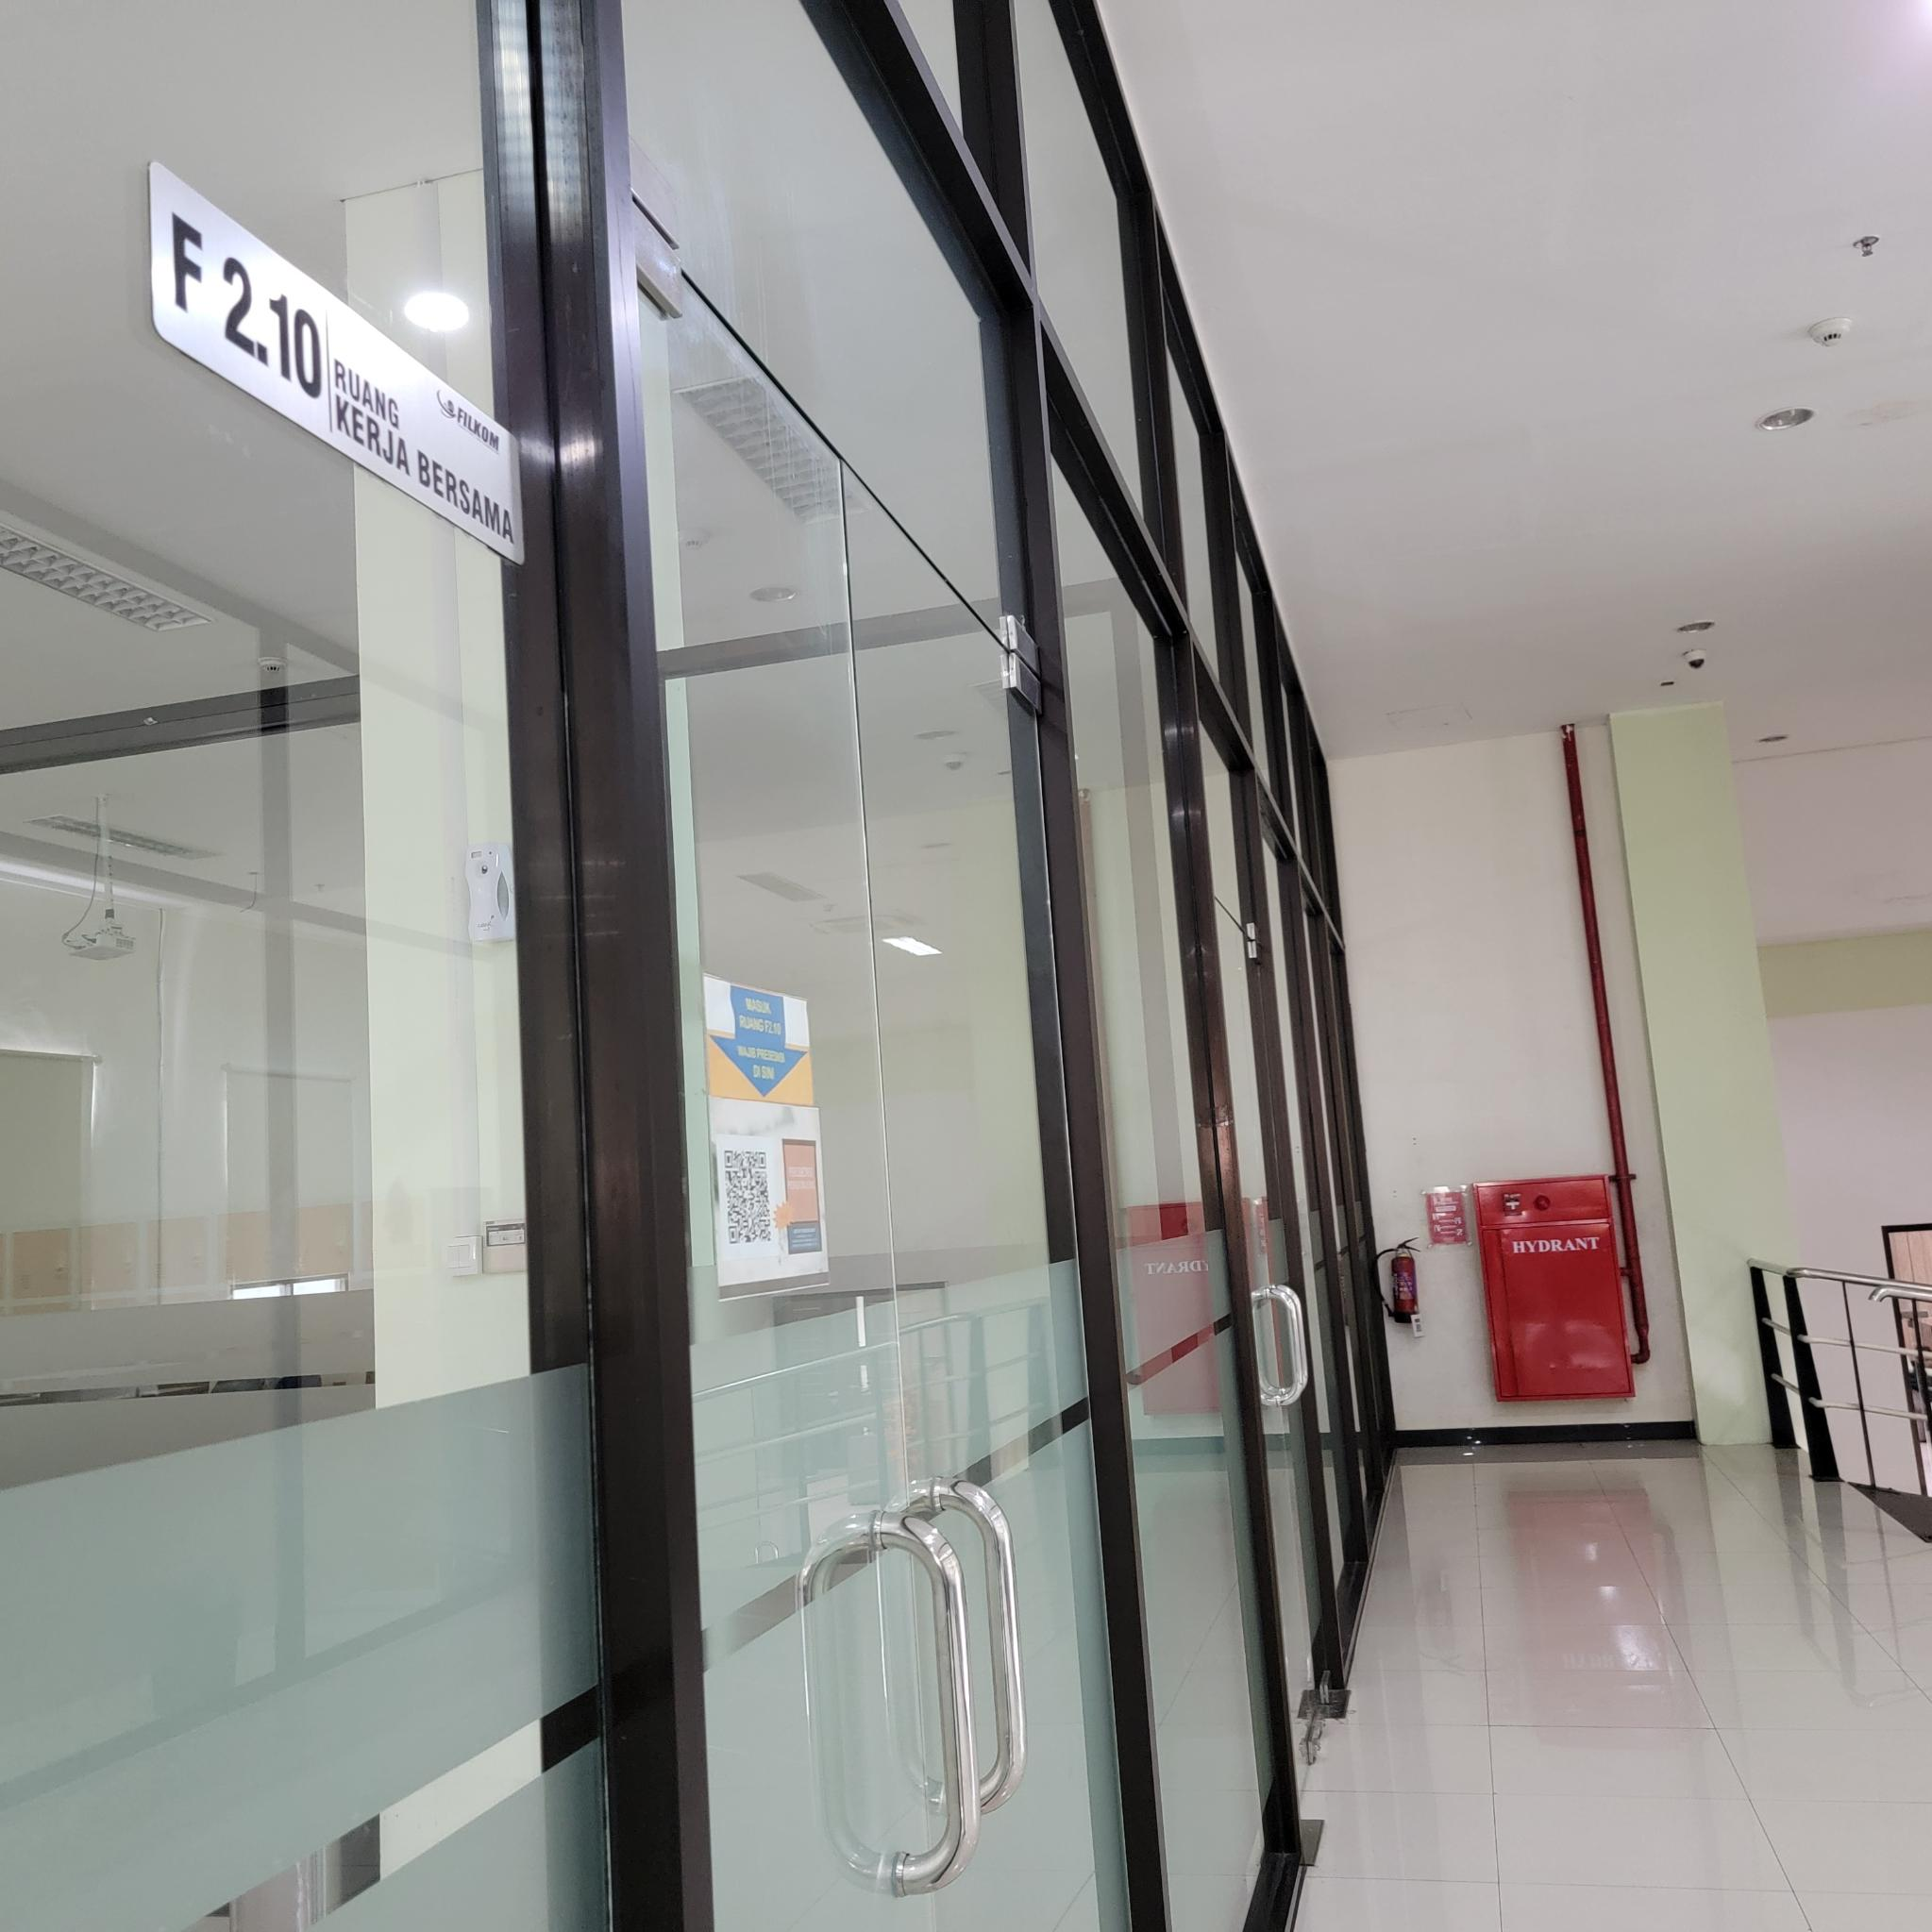plate: (152, 156, 525, 573)
